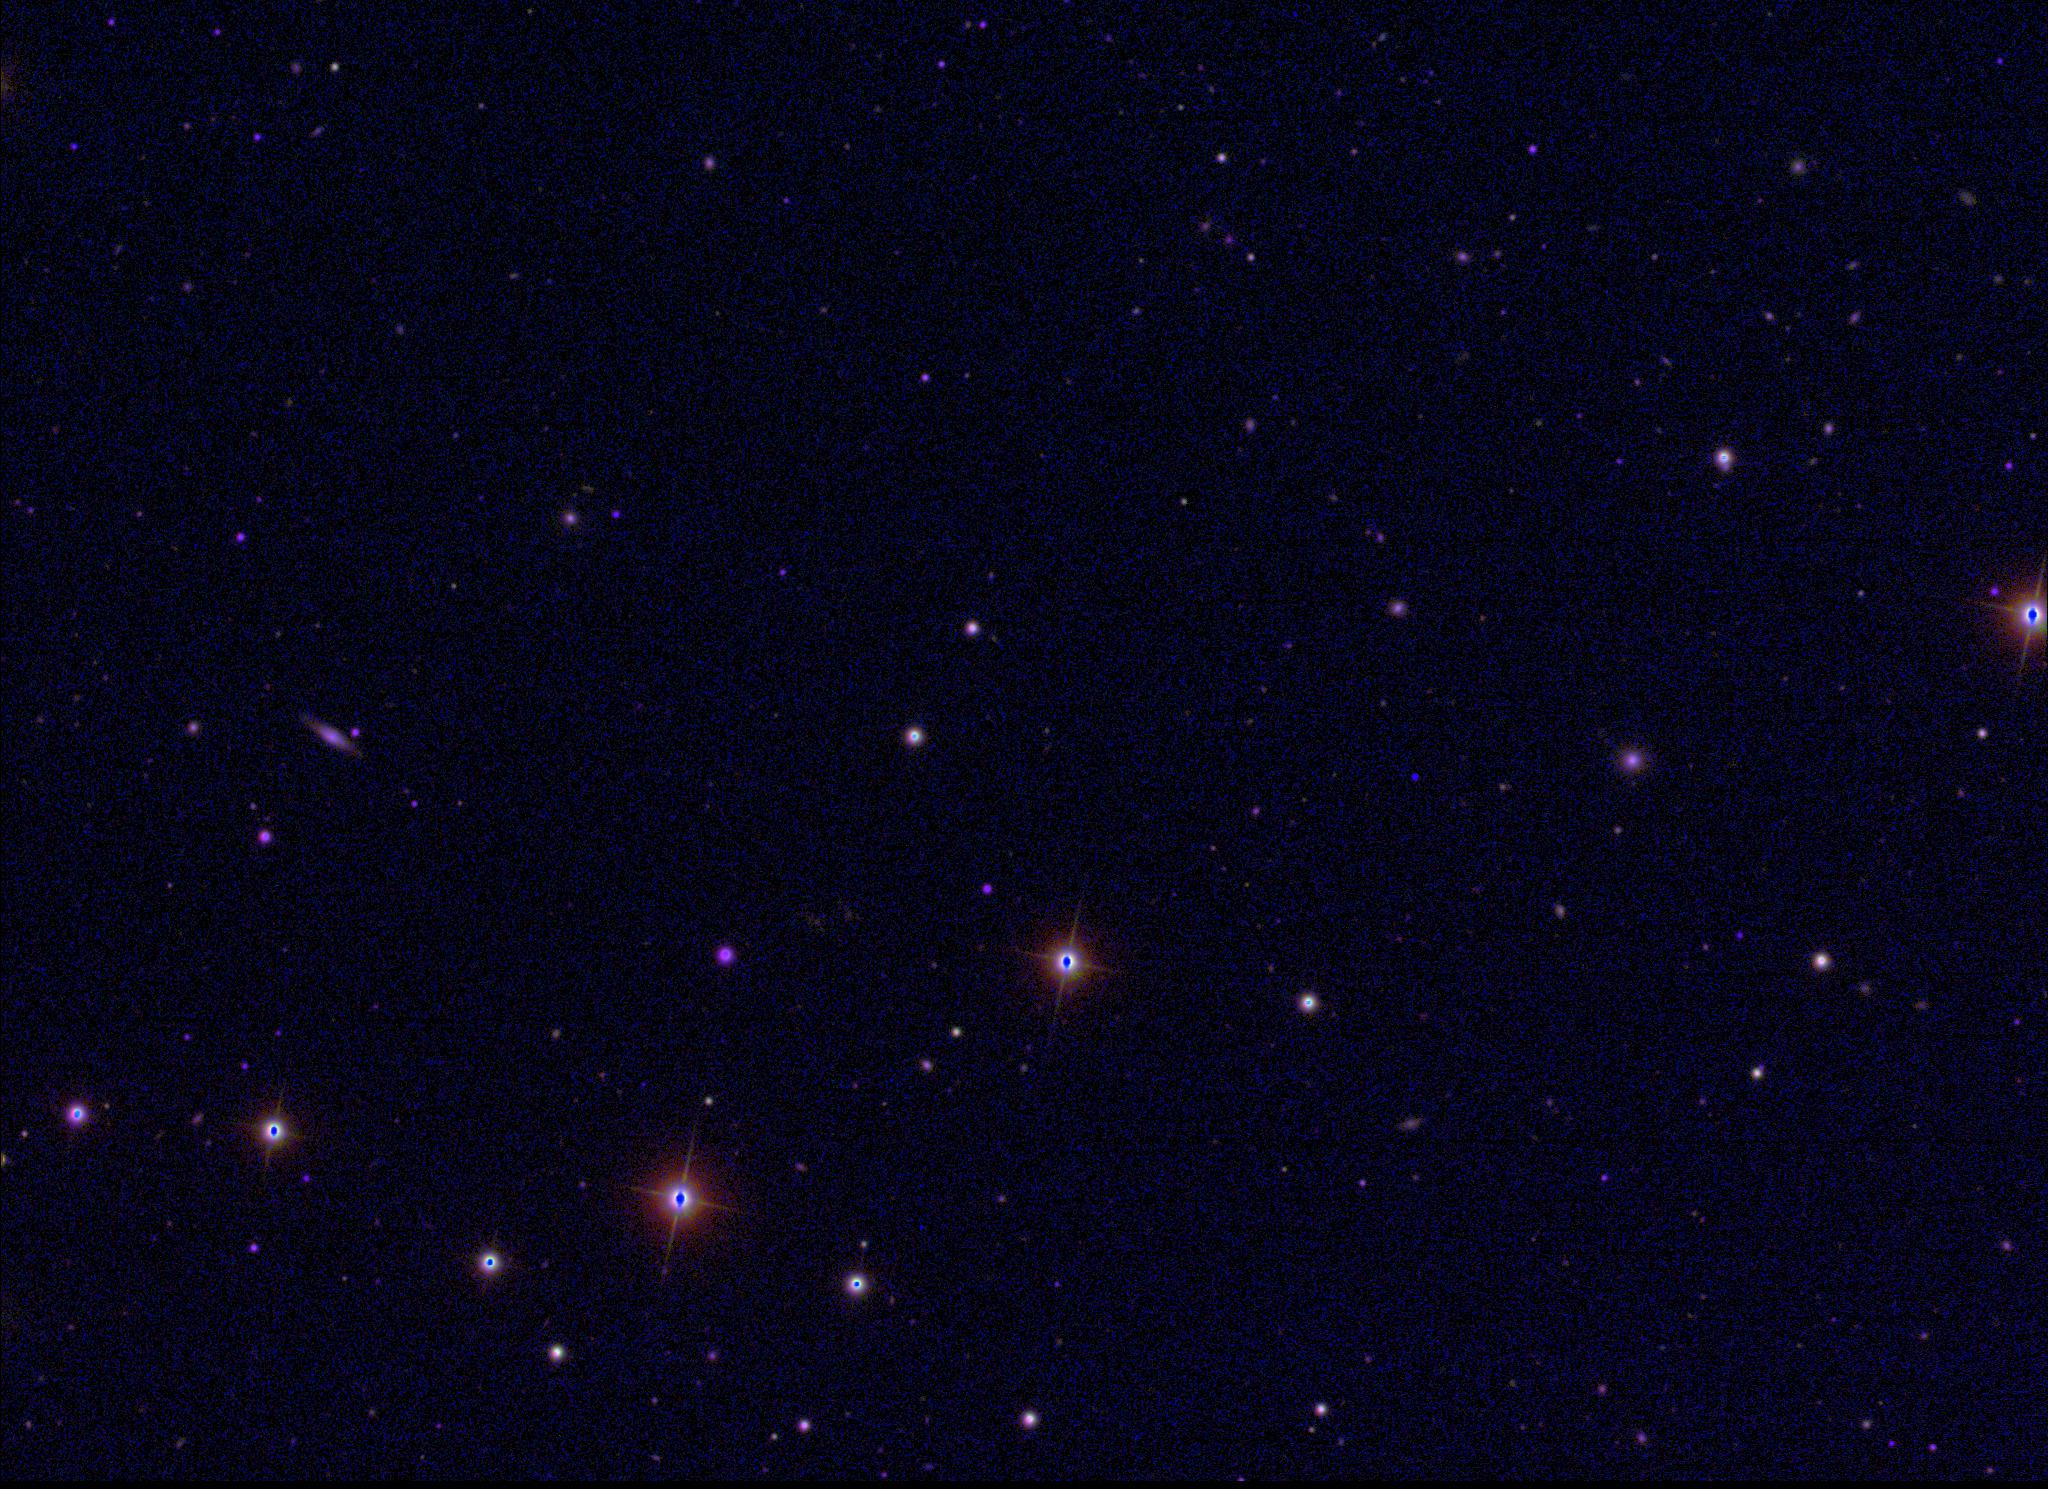L: (1409, 770, 1422, 784)
